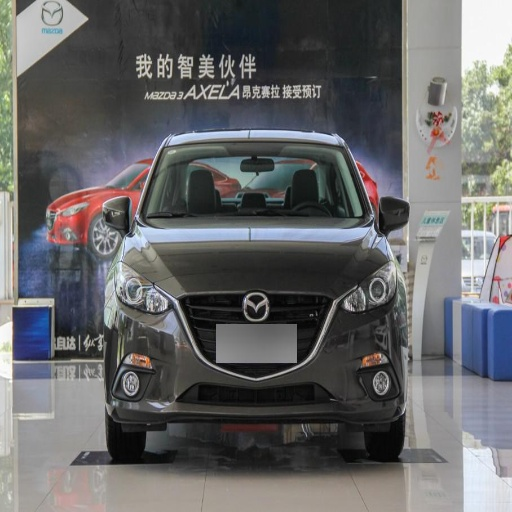back_right_light: (108, 255, 404, 424)
front_bumper: (142, 144, 370, 226)
front_left_door: (339, 262, 394, 312)
front_right_door: (116, 258, 169, 314)
front_right_light: (136, 217, 377, 295)
hood: (378, 196, 409, 232)
left_mirror: (103, 196, 130, 231)
trunk: (105, 409, 147, 463), (362, 417, 406, 460)
